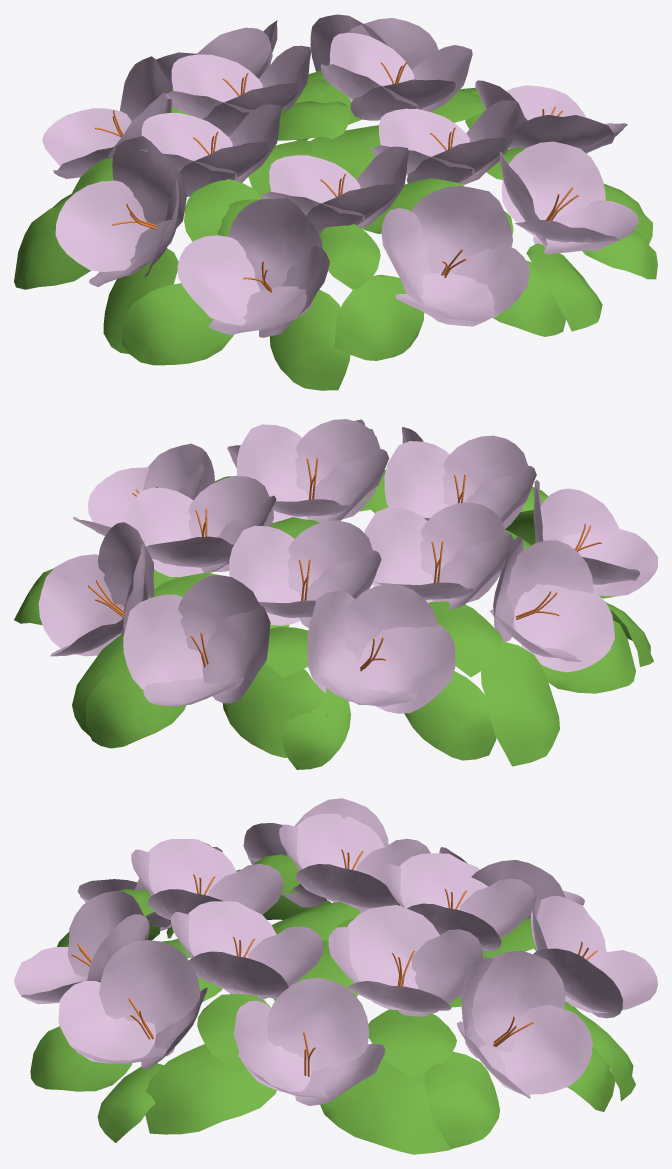
File: pinkFlower.fbx
3 renders of one model, top to bottom at view 1: azimuth 30°, elevation 25°; view 2: azimuth 150°, elevation 25°; view 3: azimuth 270°, elevation 25°, orthographic.
Parts seen in each view (by area): view 1: petal7, petal8, petal9, petal6, petal13, petal17, petal16, petal14, petal15, petal10, leaf11, leaf13 (+20 smaller); view 2: petal10, petal11, petal9, petal17, petal15, petal14, petal12, petal13, petal16, petal8, leaf9, petal5 (+13 smaller); view 3: petal12, petal5, petal6, petal13, petal17, petal11, petal14, petal15, petal16, petal7, leaf, leaf2 (+15 smaller).
Boxes of the visible parts, box(x1,y1,x2,y2) form: petal7: box(381, 185, 529, 326); petal8: box(177, 198, 329, 337); petal9: box(55, 136, 186, 287); petal6: box(499, 141, 638, 254); petal13: box(320, 32, 472, 120); petal17: box(371, 100, 518, 185); petal16: box(261, 146, 408, 234); petal14: box(163, 45, 311, 136); petal15: box(140, 104, 281, 196); petal10: box(42, 56, 171, 178); leaf11: box(122, 283, 233, 365); leaf13: box(334, 274, 424, 360); petal10: box(307, 583, 455, 713); petal11: box(123, 575, 270, 706); petal9: box(490, 536, 614, 672); petal17: box(237, 419, 389, 522); petal15: box(364, 502, 513, 609); petal14: box(229, 520, 381, 627); petal12: box(38, 522, 154, 656); petal13: box(126, 476, 276, 577); petal16: box(384, 435, 536, 529); petal8: box(533, 480, 657, 596); leaf9: box(481, 641, 559, 766); petal5: box(73, 443, 214, 535); petal12: box(456, 950, 592, 1098); petal5: box(233, 977, 385, 1105); petal6: box(58, 940, 207, 1068); petal13: box(328, 905, 483, 1016); petal17: box(171, 901, 323, 1000); petal11: box(530, 896, 657, 1018); petal14: box(382, 853, 534, 951); petal15: box(279, 813, 430, 912); petal16: box(131, 839, 283, 920); petal7: box(14, 891, 149, 1004); leaf: box(145, 1044, 276, 1134); leaf2: box(320, 1058, 450, 1154).
Size of the model in its own units: 5.79 by 1.83 by 6.15.
